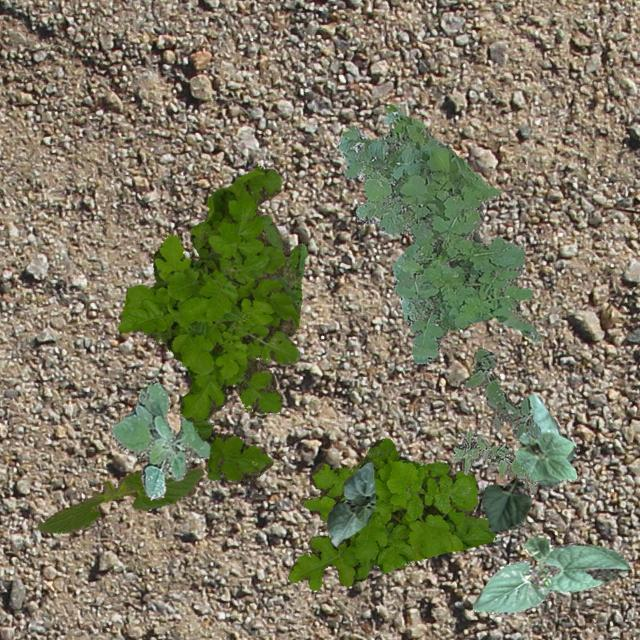crop: (472, 534, 628, 614), (36, 467, 202, 532), (481, 446, 578, 532), (514, 392, 576, 487), (326, 460, 376, 546)
weed: (116, 165, 298, 480), (337, 104, 540, 362), (286, 436, 496, 590), (110, 381, 210, 498), (464, 346, 540, 439), (452, 429, 536, 494), (260, 214, 306, 314)
